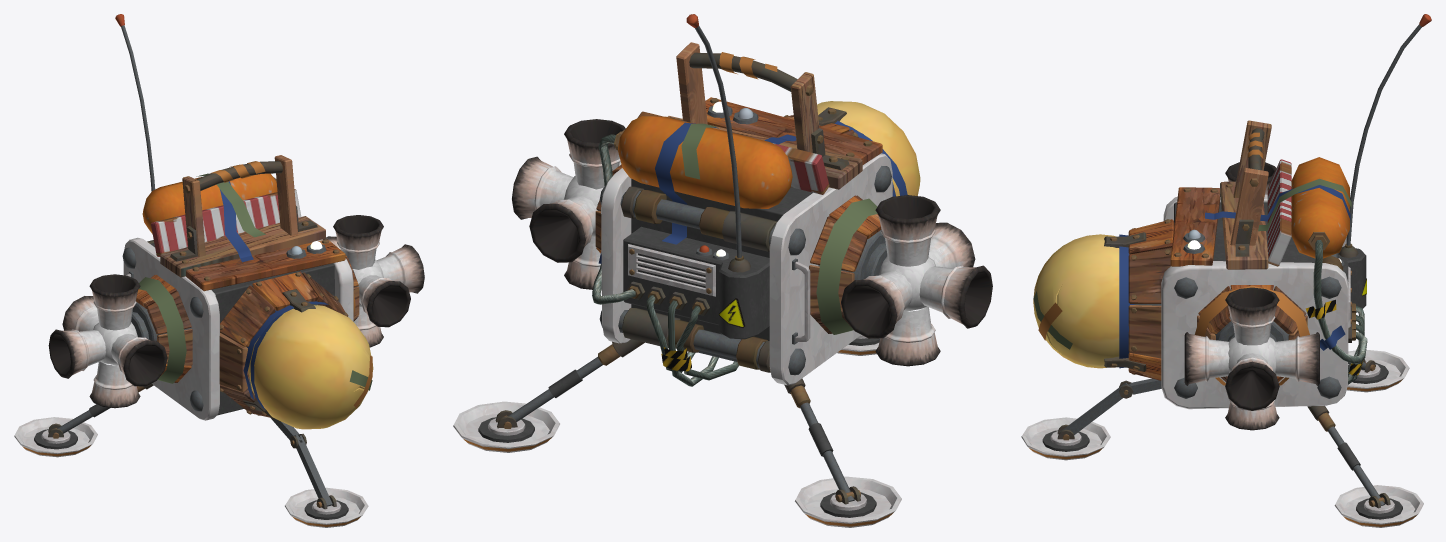
File: modelrocket.glb
The picture shows the model from 3 angles, left to right: view 1: azimuth 30°, elevation 25°; view 2: azimuth 150°, elevation 25°; view 3: azimuth 270°, elevation 25°; orthographic projection. The views are drawn at different scales.
Parts seen in each view (by area): view 1: SubMesh_0; view 2: SubMesh_0; view 3: SubMesh_0.
Part boxes in pixels (<box>): SubMesh_0: <box>14,14,424,527</box>; SubMesh_0: <box>453,14,992,527</box>; SubMesh_0: <box>1021,14,1431,527</box>.
Bounding box in the file's own units: 2.33 × 2.42 × 2.2.
Materials: 1 (1 with a texture image).
